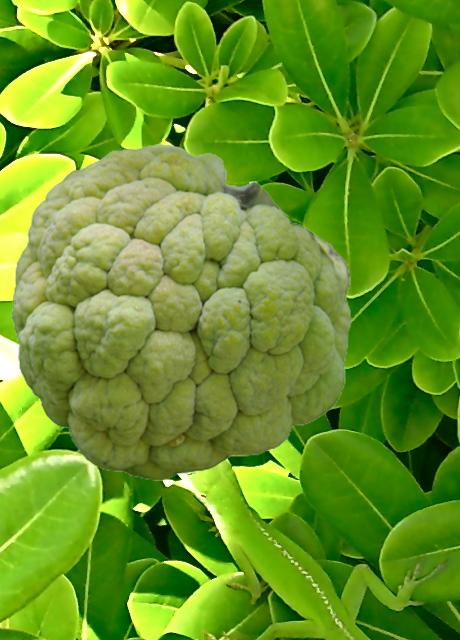atis: (12, 144, 350, 479)
